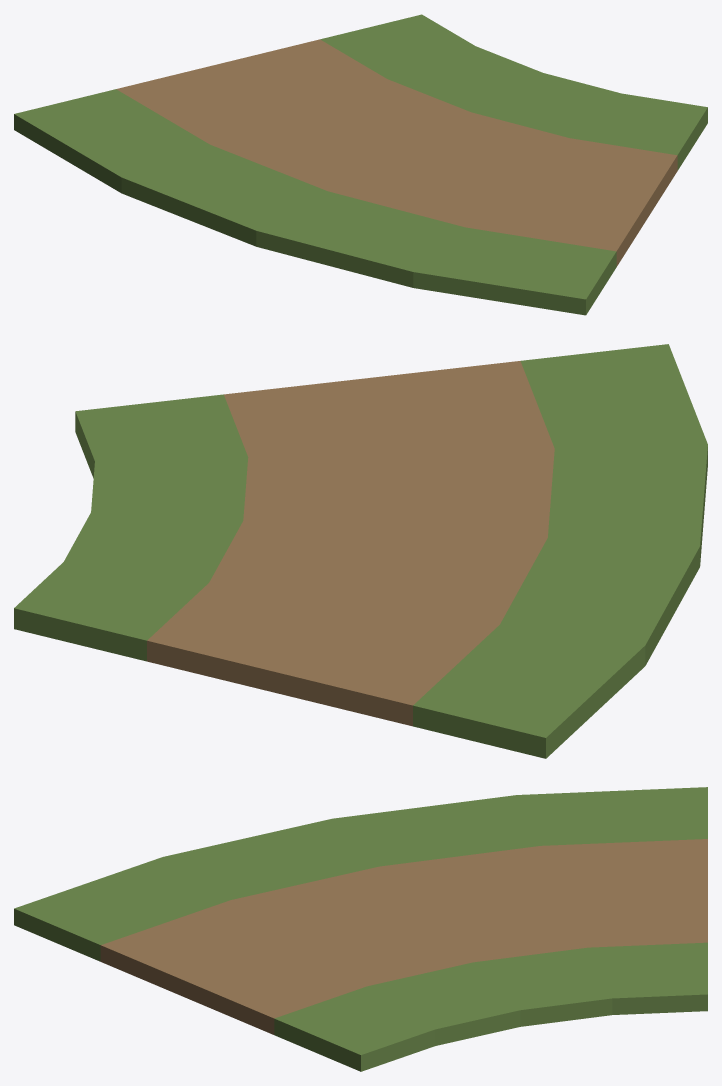
File: Road_1Lane_Dirt_NoSidewalk_Curve45_L.glb
3 views of the same model, one above another, from view 1: azimuth 30°, elevation 25°; view 2: azimuth 150°, elevation 25°; view 3: azimuth 270°, elevation 25° (orthographic). The views are drawn at different scales.
Visible parts, largest first — view 1: Road_1Lane_Dirt_NoSidewalk_Curve45_L_Grass-edge, Road_1Lane_Dirt_NoSidewalk_Curve45_L_Dirt; view 2: Road_1Lane_Dirt_NoSidewalk_Curve45_L_Grass-edge, Road_1Lane_Dirt_NoSidewalk_Curve45_L_Dirt; view 3: Road_1Lane_Dirt_NoSidewalk_Curve45_L_Grass-edge, Road_1Lane_Dirt_NoSidewalk_Curve45_L_Dirt.
Part boxes in pixels (x1=…): Road_1Lane_Dirt_NoSidewalk_Curve45_L_Grass-edge: x1=14, y1=14, x2=707, y2=315; Road_1Lane_Dirt_NoSidewalk_Curve45_L_Dirt: x1=116, y1=39, x2=677, y2=266; Road_1Lane_Dirt_NoSidewalk_Curve45_L_Grass-edge: x1=14, y1=344, x2=707, y2=758; Road_1Lane_Dirt_NoSidewalk_Curve45_L_Dirt: x1=147, y1=361, x2=554, y2=726; Road_1Lane_Dirt_NoSidewalk_Curve45_L_Grass-edge: x1=14, y1=787, x2=707, y2=1071; Road_1Lane_Dirt_NoSidewalk_Curve45_L_Dirt: x1=100, y1=839, x2=707, y2=1034.
Size of the model in its own units: 10.34 by 0.3 by 11.31.
